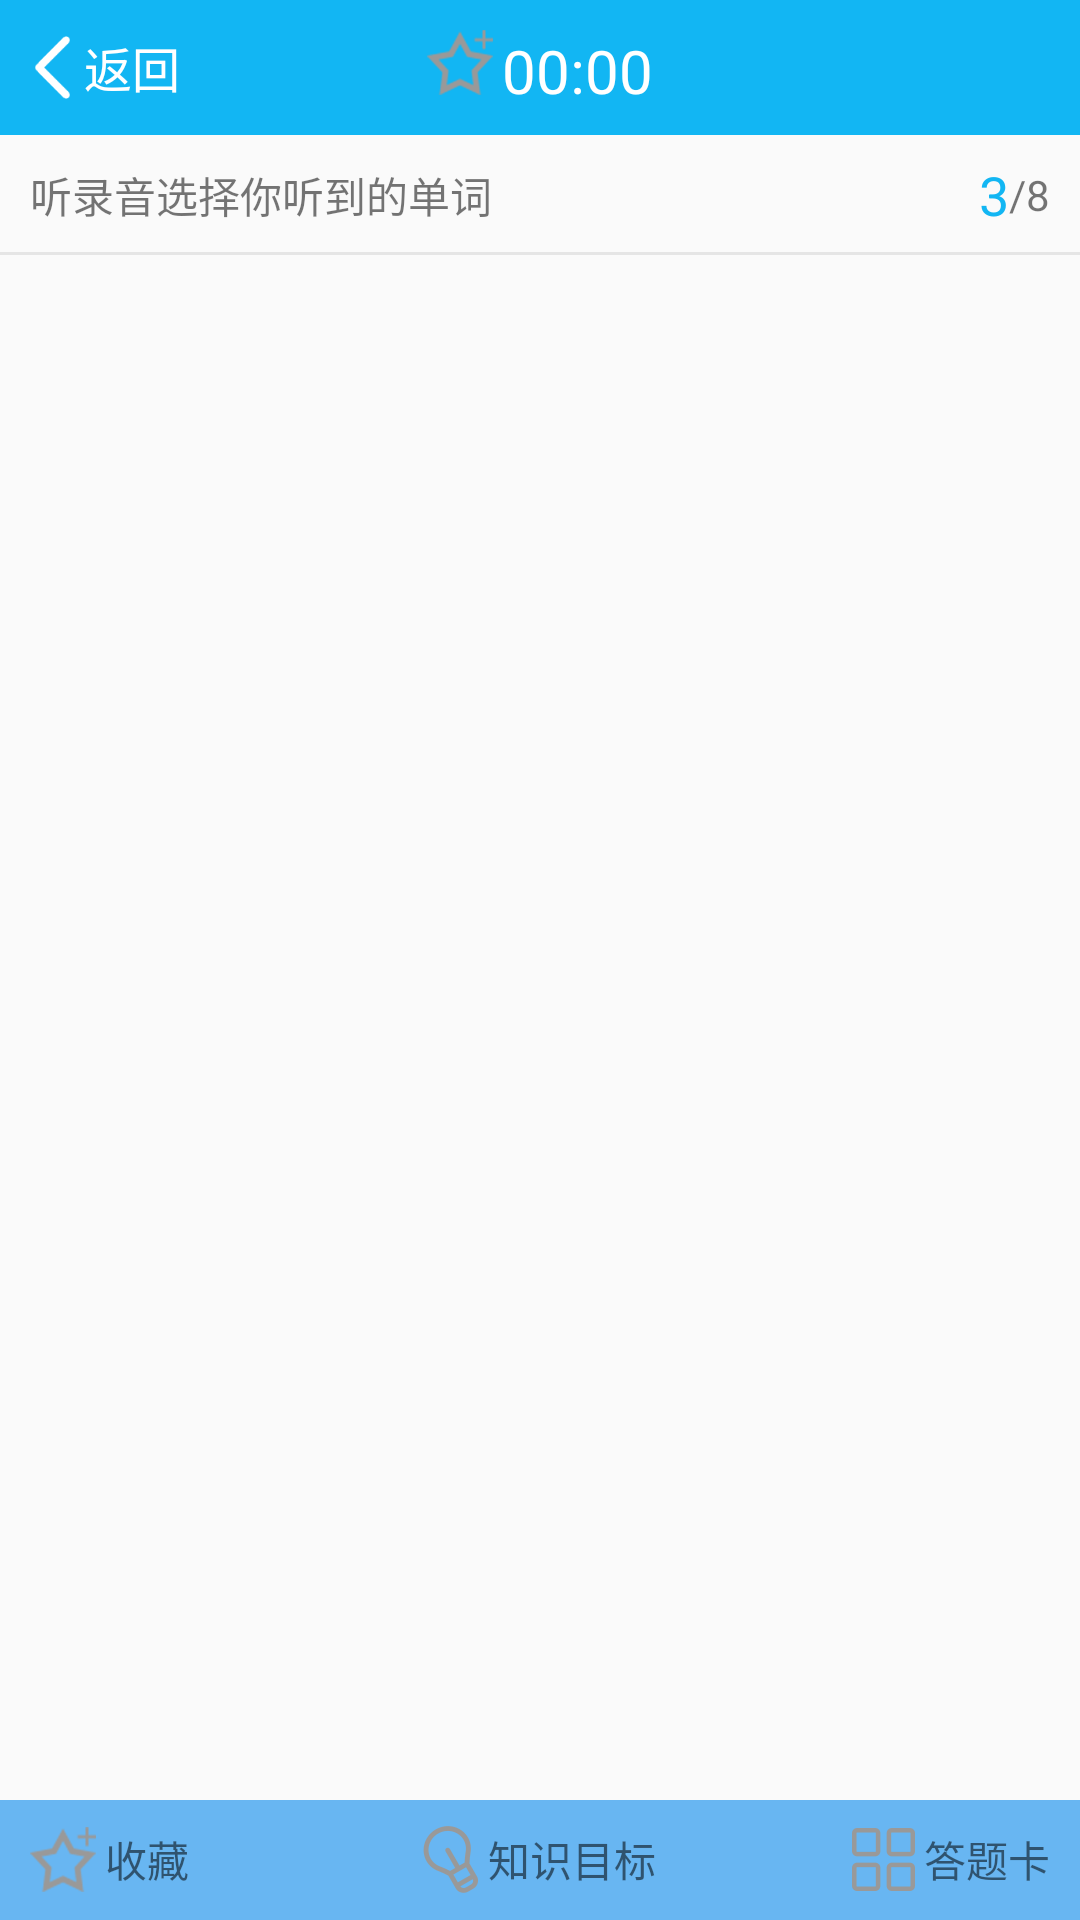

Icon click points for this 1080x1920 phone screenshot, format (x,y):
arr left: (52,67)
list: (883,1859)
tips: (450,1859)
